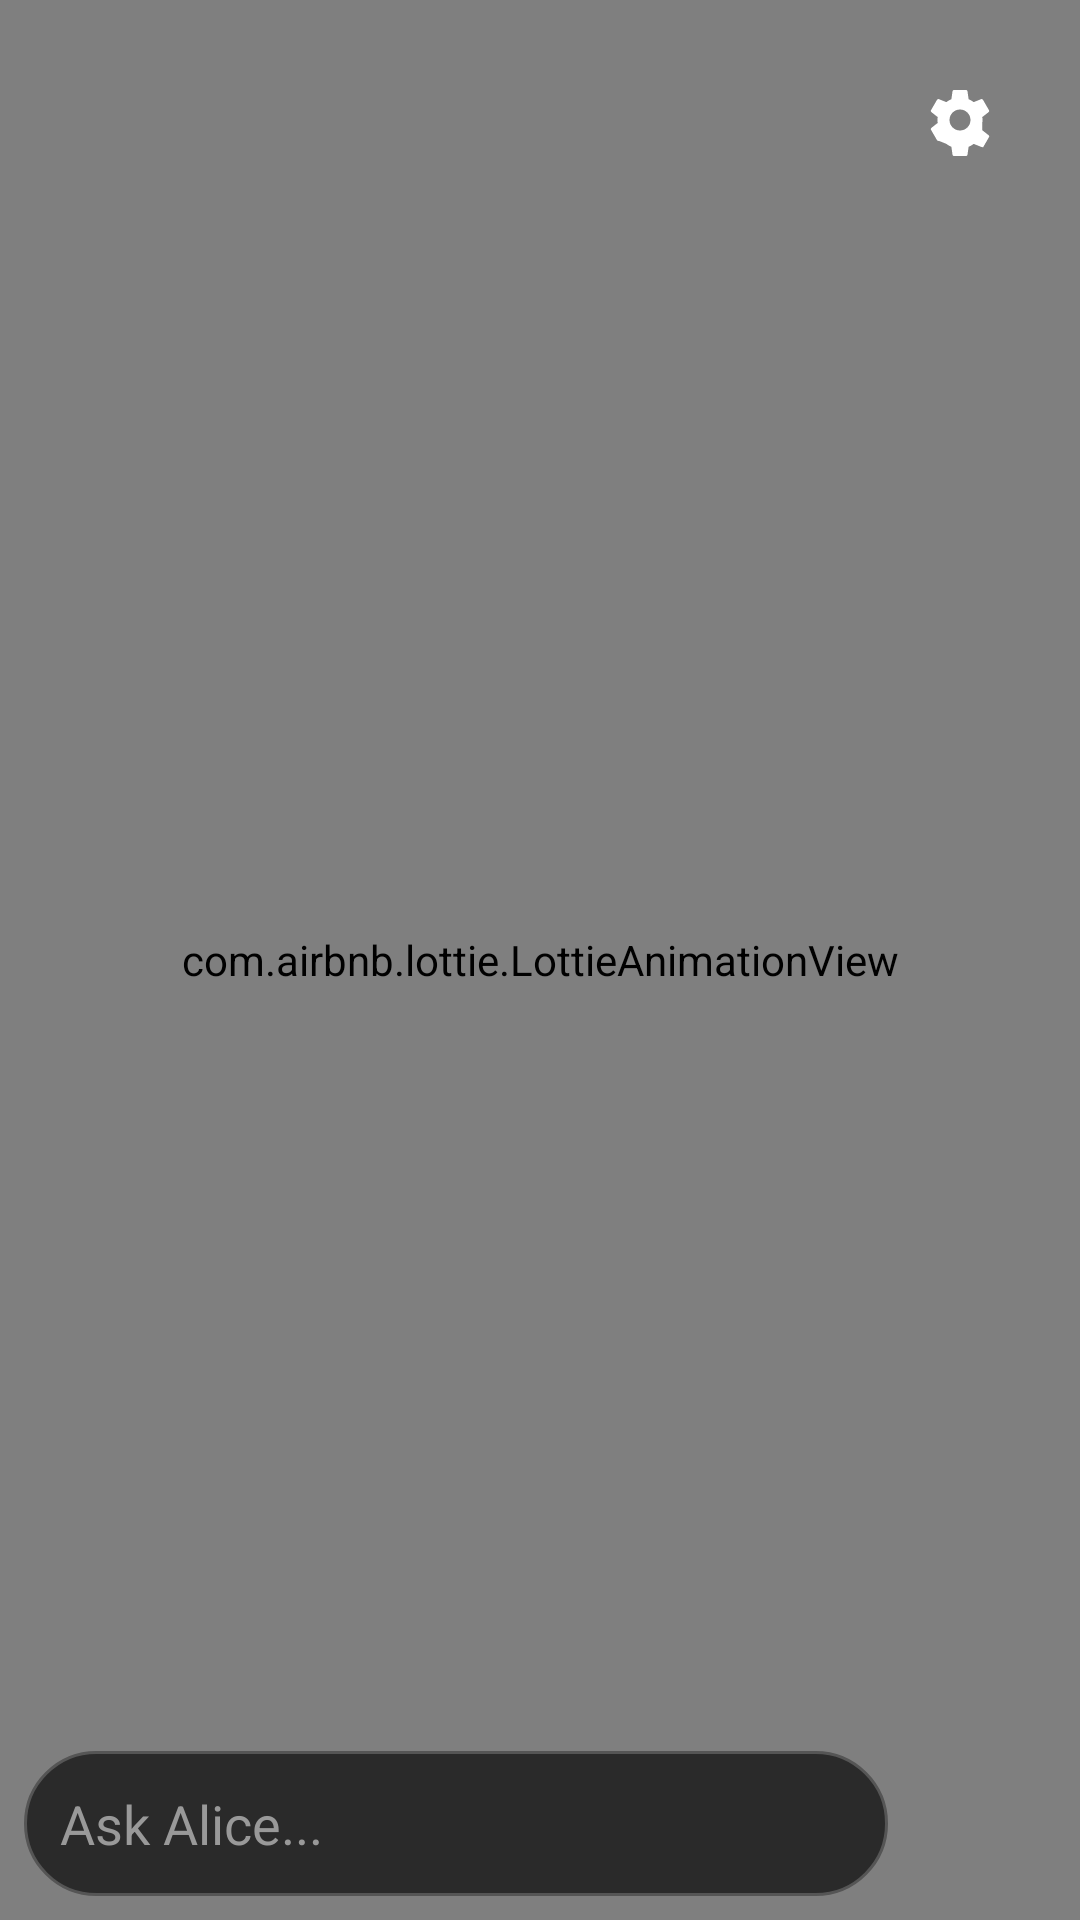

Icon click points for this 1080x1920 phone screenshot, format (x=x, y=y):
Settings: (x=960, y=123)
